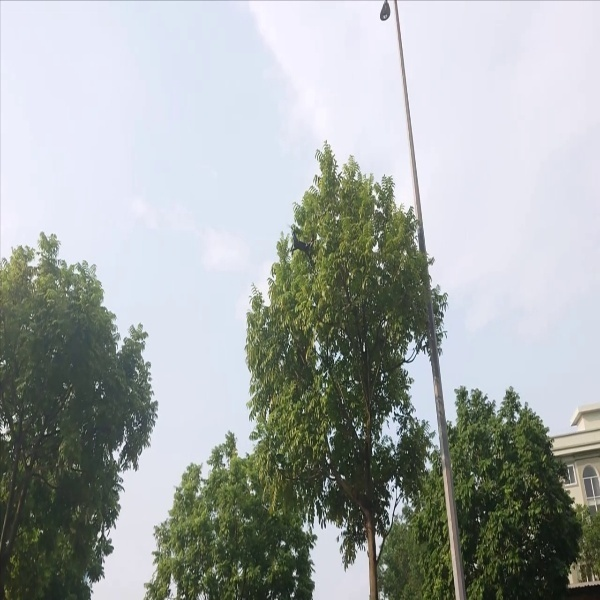drone: (285, 224, 319, 271)
